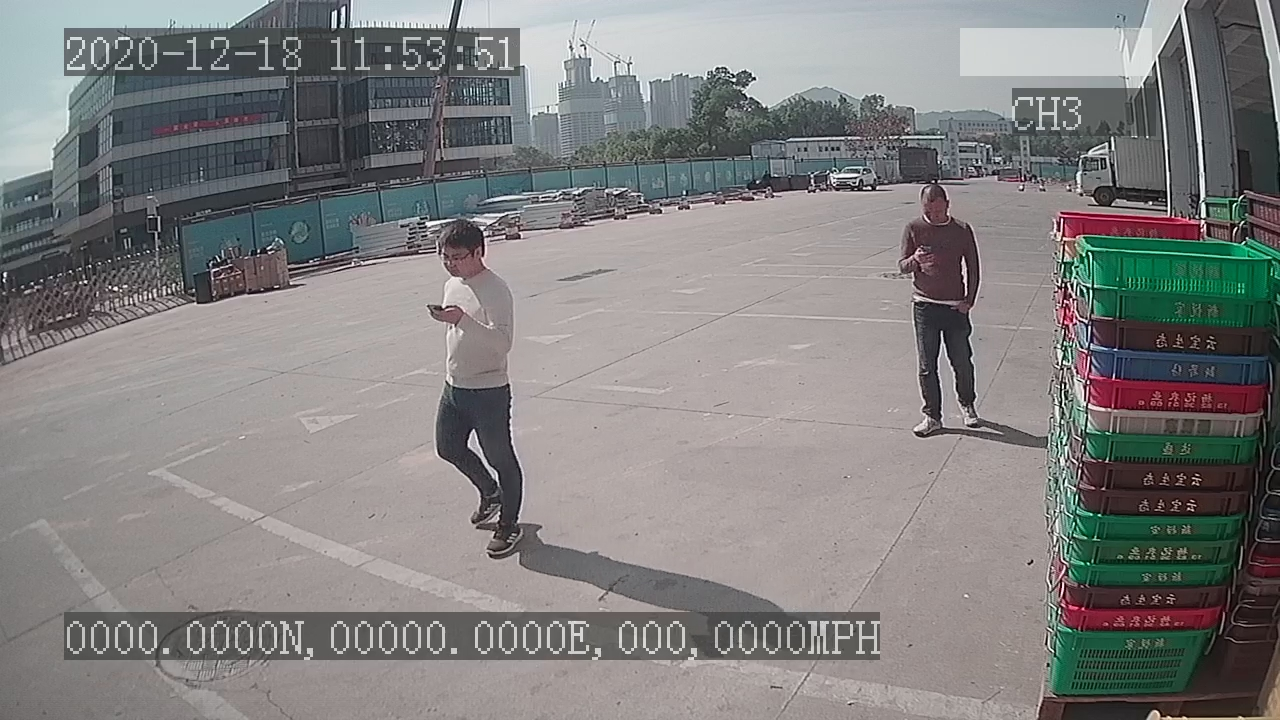person: (424, 217, 533, 563), (892, 181, 993, 445)
